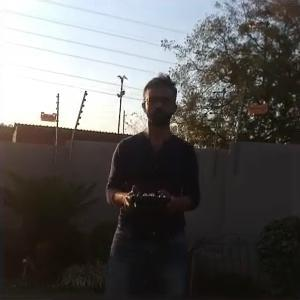follow: (92, 65, 201, 298)
